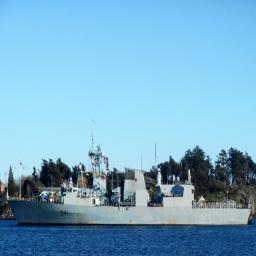Fragata: (7, 124, 253, 229)
